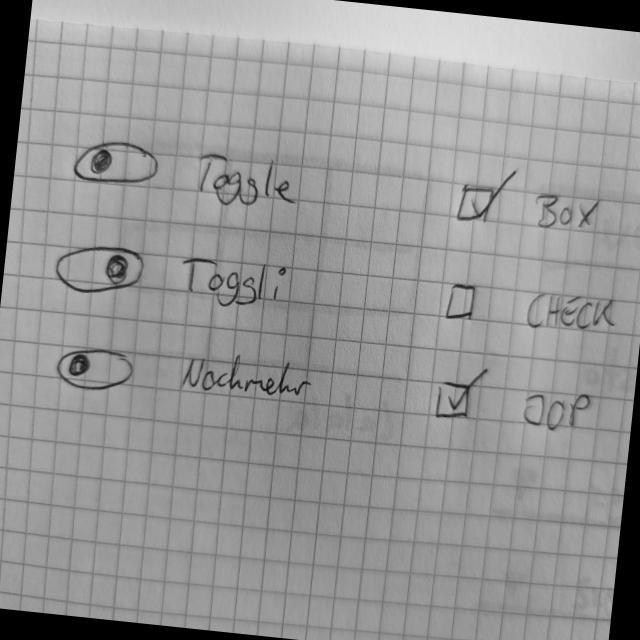checkbox: (433, 359, 599, 440), (440, 277, 623, 343), (456, 163, 607, 239)
label: (178, 343, 318, 409), (175, 252, 298, 318), (190, 147, 303, 217)
toggle: (51, 237, 149, 303), (71, 134, 165, 192), (54, 342, 141, 397)
